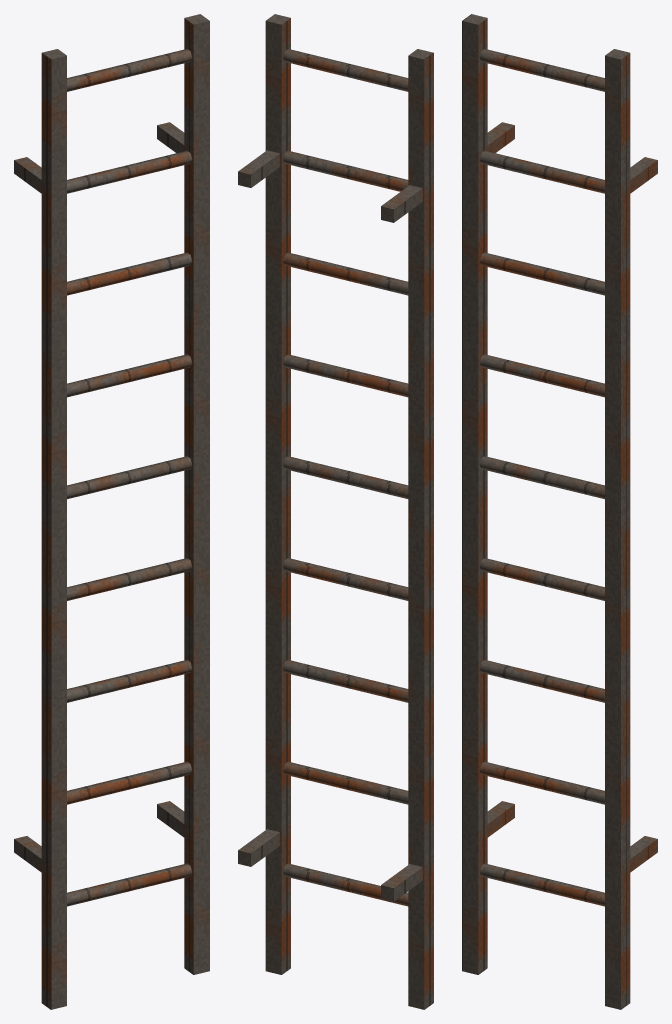
The model's file is tfg_sewer_ladder.glb.
The picture shows the model from 3 angles, left to right: view 1: azimuth 30°, elevation 25°; view 2: azimuth 150°, elevation 25°; view 3: azimuth 330°, elevation 25°; orthographic projection.
Visible parts, largest first — view 1: tfg_sewer_ladder; view 2: tfg_sewer_ladder; view 3: tfg_sewer_ladder.
Boxes of the visible parts, x1,y1,x2,y2 form: tfg_sewer_ladder: (14,14,209,1009); tfg_sewer_ladder: (238,14,433,1009); tfg_sewer_ladder: (462,14,657,1009).
Size of the model in its own units: 0.49 by 2.8 by 0.205.
Materials: 1 (1 with a texture image).
